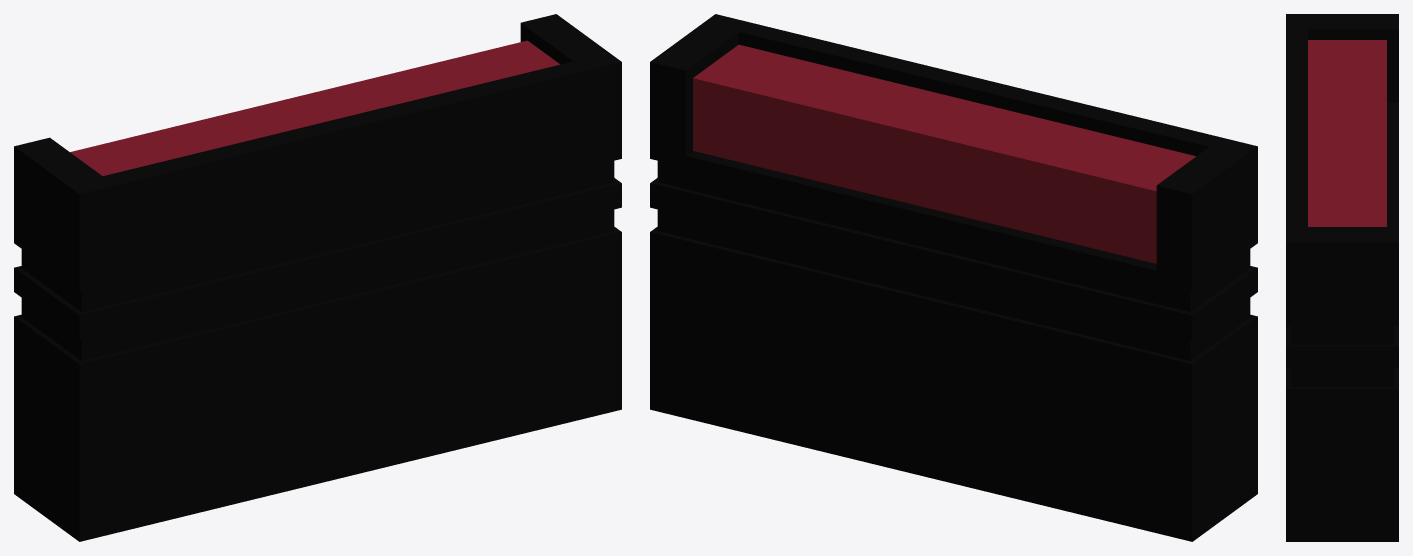
File: SM_TriggerModule.fbx
3 renders of one model, left to right at view 1: azimuth 30°, elevation 25°; view 2: azimuth 150°, elevation 25°; view 3: azimuth 270°, elevation 25°, orthographic. The views are drawn at different scales.
Parts seen in each view (by area): view 1: TriggerModule; view 2: TriggerModule; view 3: TriggerModule.
Part boxes in pixels (bbox=[...]): TriggerModule: bbox=[14, 14, 621, 541]; TriggerModule: bbox=[650, 14, 1257, 541]; TriggerModule: bbox=[1286, 14, 1398, 541].
Bounding box in the file's own units: 224 × 138 × 46.91.
